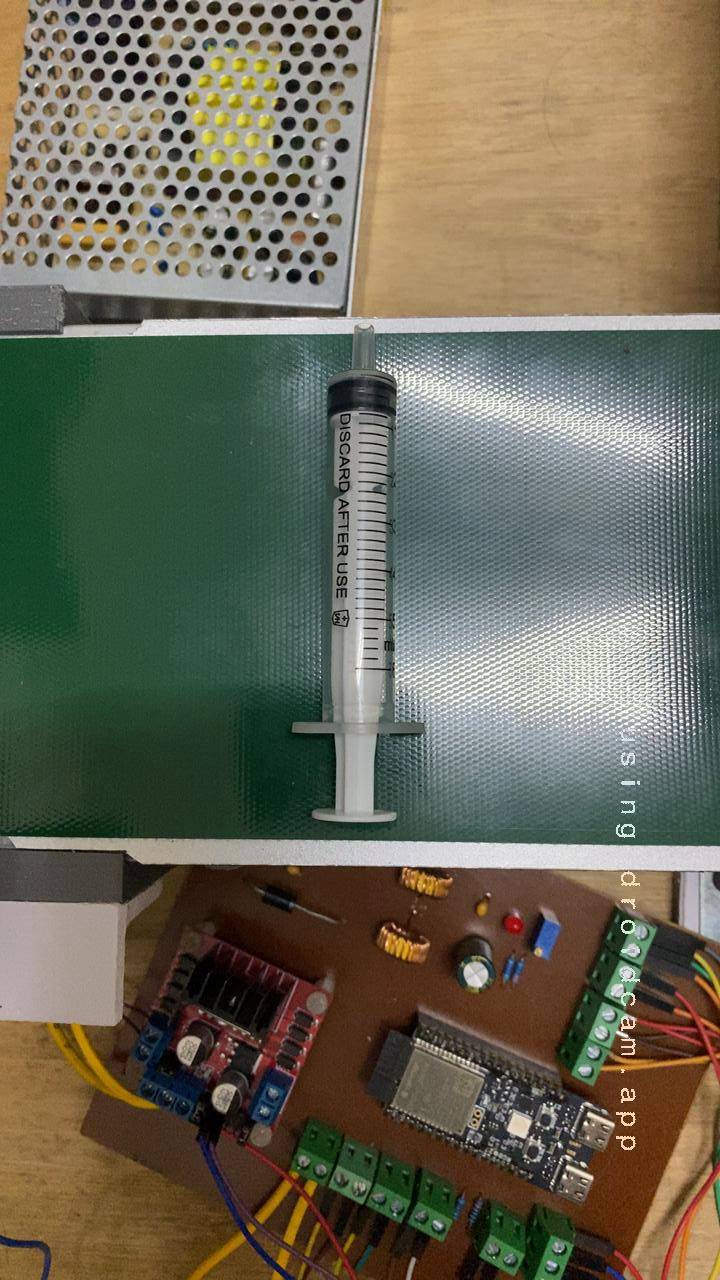syringe: (240, 357, 482, 841)
